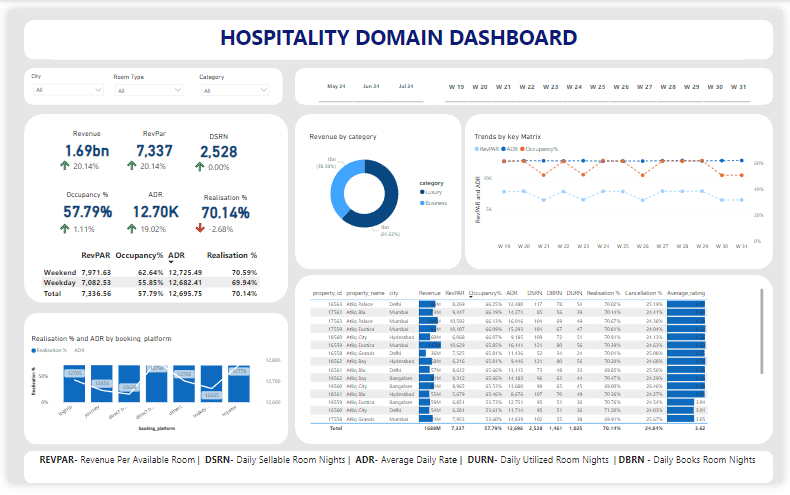

What the dashboard file says about the page in this screenshot:
{"tool":"powerbi","page":{"name":"Home","canvas":[1800,1100],"ordinal":0},"visuals":[{"type":"shape","box":[667.3,134.7,1112.2,85.7],"z":0},{"type":"shape","box":[36.7,1024.5,1742.9,75.5],"z":1000},{"type":"shape","box":[36.7,22.4,1742.9,91.8],"z":2000},{"type":"shape","box":[667.3,616.3,1112.2,393.9],"z":3000},{"type":"shape","box":[36.7,704.1,614.3,306.1],"z":4000},{"type":"shape","box":[1063.3,240.8,716.3,361.2],"z":5000},{"type":"shape","box":[667.3,240.8,387.8,361.2],"z":6000},{"type":"shape","box":[36.7,240.8,614.3,438.8],"z":7000},{"type":"shape","box":[36.7,134.7,602,85.7],"z":8000},{"type":"tableEx","fields":{"Values":["dim_hotels.property_id","dim_hotels.property_name","dim_hotels.city","dax_measures.Revenue","dax_measures.RevPAR","dax_measures.Occupancy%","dax_measures.Average daily rate","dax_measures.DSRN","dax_measures.DBRN","dax_measures.DURN","dax_measures.Realisation %","dax_measures.Cancellation %"]},"box":[698,640.8,1065.3,342.9],"z":9000},{"type":"slicer","title":"City","fields":{"Values":["dim_hotels.city"]},"box":[49,146.9,183.7,59.2],"z":10000},{"type":"slicer","title":"Room Type","fields":{"Values":["dim_rooms.room_class"]},"box":[238.8,146.9,177.6,59.2],"z":11000},{"type":"slicer","fields":{"Values":["dim_date.mmm yy"]},"box":[698,134.7,291.8,85.7],"z":12000},{"type":"slicer","fields":{"Values":["dim_date.week no"]},"box":[989.8,134.7,759.2,85.7],"z":13000},{"type":"tableEx","title":"Revenue WoW changes %","fields":{"Values":["dax_measures.Revenue WoW change %"]},"box":[108.3,320.5,160.2,65],"z":14000},{"type":"card","title":"Revenue","fields":{"Values":["dax_measures.Revenue"]},"box":[104.1,277.6,157.1,73.5],"z":15000},{"type":"donutChart","fields":{"Category":["dim_hotels.category"],"Y":["dax_measures.Revenue"]},"box":[695.9,283.7,340.8,267.3],"z":16000},{"type":"tableEx","title":"Revenue WoW changes %","fields":{"Values":["dax_measures.Revpar WoW change %"]},"box":[264.2,320.5,160.2,65],"z":17000},{"type":"tableEx","title":"Revenue WoW changes %","fields":{"Values":["dax_measures.DSRN WoW change %"]},"box":[424.4,320.5,160.2,65],"z":18000},{"type":"tableEx","title":"Revenue WoW changes %","fields":{"Values":["dax_measures.ADR WoW change %"]},"box":[264.2,465.6,160.2,65],"z":19000},{"type":"tableEx","title":"Revenue WoW changes %","fields":{"Values":["dax_measures.Occupancy WoW change %"]},"box":[108.3,465.6,160.2,65],"z":20000},{"type":"card","title":"RevPar","fields":{"Values":["dax_measures.RevPAR"]},"box":[263.3,277.6,155.1,73.5],"z":21000},{"type":"card","title":"DSRN","fields":{"Values":["dax_measures.DSRN"]},"box":[410.2,283.7,161.2,67.3],"z":22000},{"type":"card","title":"Occupancy %","fields":{"Values":["dax_measures.Occupancy%"]},"box":[105.9,418.4,155.1,73.5],"z":23000},{"type":"card","title":"ADR","fields":{"Values":["dax_measures.ADR"]},"box":[265.1,418.4,155.1,73.5],"z":24000},{"type":"lineChart","title":"Trends by key Matrix","fields":{"Category":["dim_date.mmm yy.Variation.Date Hierarchy.Month","dim_date.week no"],"Y":["dax_measures.RevPAR","dax_measures.ADR"],"Y2":["dax_measures.Occupancy%"]},"box":[1079.6,283.7,683.7,283.7],"z":25000},{"type":"lineStackedColumnComboChart","fields":{"Category":["fact_bookings.booking_platform"],"Y":["dax_measures.Realisation %"],"Y2":["dax_measures.ADR"]},"box":[49,753.1,589.8,230.6],"z":26000},{"type":"tableEx","fields":{"Values":["dim_date.day_type","dax_measures.RevPAR","dax_measures.Occupancy%","dax_measures.ADR","dax_measures.Realisation %"]},"box":[71.4,551,538.8,128.6],"z":27000},{"type":"tableEx","title":"Revenue WoW changes %","fields":{"Values":["dax_measures.Realisation WoW change %"]},"box":[424.4,465.6,160.2,65],"z":28000},{"type":"card","title":"Realisation %","fields":{"Values":["dax_measures.Realisation %"]},"box":[438.8,424.5,132.7,67.3],"z":29000},{"type":"textbox","box":[100,22.4,1616.3,91.8],"z":30000},{"type":"textbox","box":[49,1024.5,1714.3,75.5],"z":31000},{"type":"slicer","title":"Category","fields":{"Values":["fact_agregated_bookings.room_category"]},"box":[438.8,146.9,177.6,59.2],"z":32000}]}

Visuals, with their boxes in screenshot pixels (x1, y1, x2, y2), scaled from the page's 1800x1100 canvas onto the 790x495 screenshot:
shape: [293,61,781,99]
shape: [16,461,781,494]
shape: [16,10,781,51]
shape: [293,277,781,455]
shape: [16,317,286,455]
shape: [467,108,781,271]
shape: [293,108,463,271]
shape: [16,108,286,306]
shape: [16,61,280,99]
tableEx - dim_hotels.property_id x dim_hotels.property_name: [306,288,774,443]
"City" slicer: [22,66,102,93]
"Room Type" slicer: [105,66,183,93]
slicer - dim_date.mmm yy: [306,61,434,99]
slicer - dim_date.week no: [434,61,768,99]
"Revenue WoW changes %" tableEx: [48,144,118,173]
"Revenue" card: [46,125,115,158]
donutChart - dim_hotels.category x dax_measures.Revenue: [305,128,455,248]
"Revenue WoW changes %" tableEx: [116,144,186,173]
"Revenue WoW changes %" tableEx: [186,144,257,173]
"Revenue WoW changes %" tableEx: [116,210,186,239]
"Revenue WoW changes %" tableEx: [48,210,118,239]
"RevPar" card: [116,125,184,158]
"DSRN" card: [180,128,251,158]
"Occupancy %" card: [46,188,115,221]
"ADR" card: [116,188,184,221]
"Trends by key Matrix" lineChart: [474,128,774,255]
lineStackedColumnComboChart - fact_bookings.booking_platform x dax_measures.Realisation %: [22,339,280,443]
tableEx - dim_date.day_type x dax_measures.RevPAR: [31,248,268,306]
"Revenue WoW changes %" tableEx: [186,210,257,239]
"Realisation %" card: [193,191,251,221]
textbox: [44,10,753,51]
textbox: [22,461,774,494]
"Category" slicer: [193,66,271,93]
